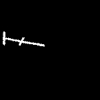double_crochet: (3, 32, 43, 45)
